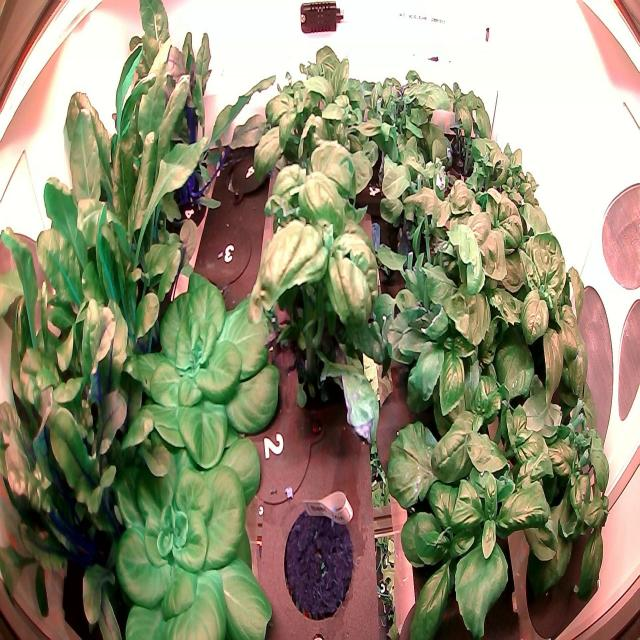empty_pod: (195, 210, 258, 300), (223, 132, 274, 209)
pod: (279, 495, 361, 627)
young: (116, 255, 286, 482), (107, 439, 281, 640)
